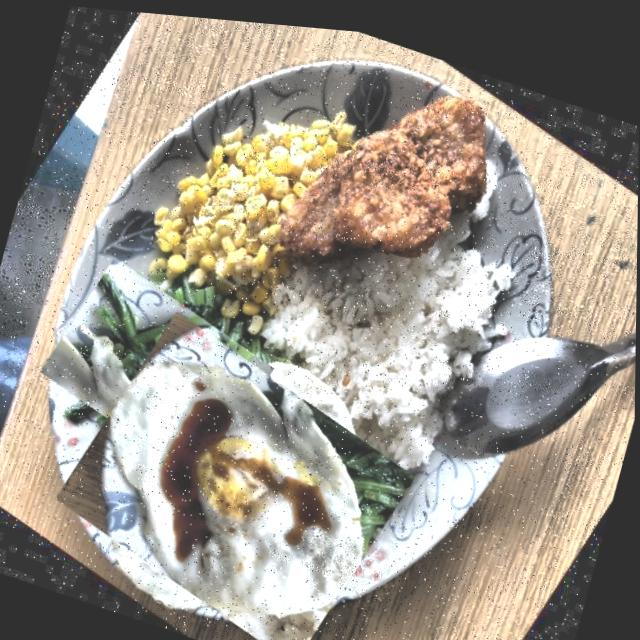Food: (39, 274, 432, 640), (255, 18, 532, 347), (259, 163, 535, 463), (31, 232, 284, 499)
